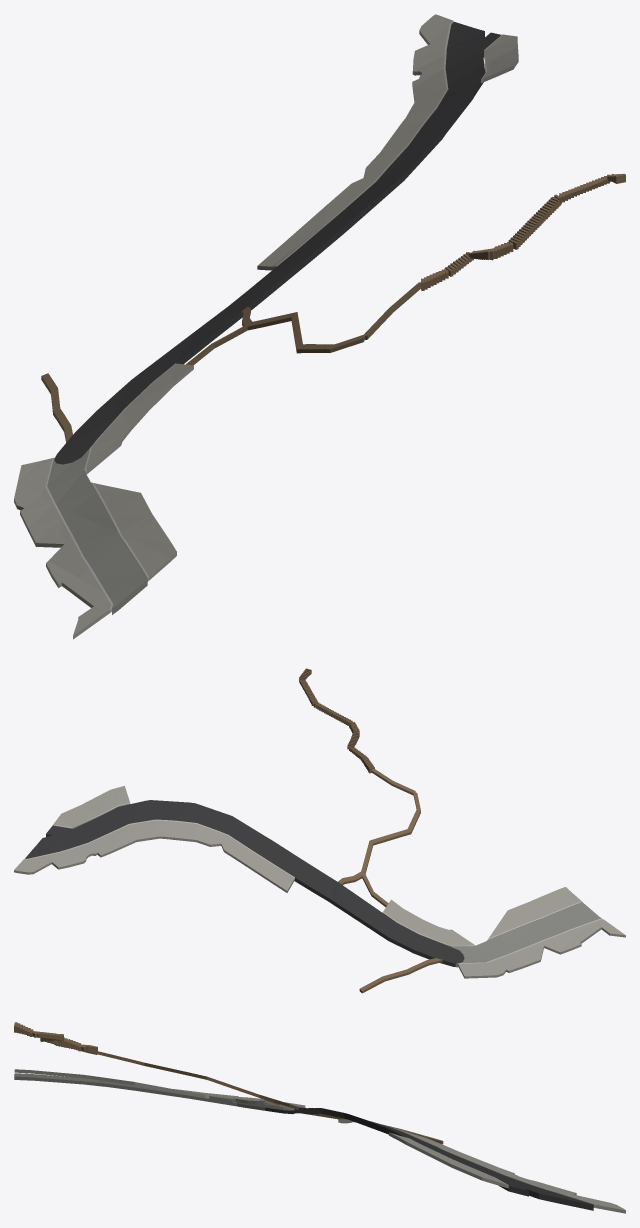
The model's file is 18-218860-118951.394beb39.glb.
3 renders of one model, top to bottom at view 1: azimuth 30°, elevation 25°; view 2: azimuth 150°, elevation 25°; view 3: azimuth 270°, elevation 25°, orthographic. The views are drawn at different scales.
Size of the model in its own units: 137 by 60.9 by 116.
